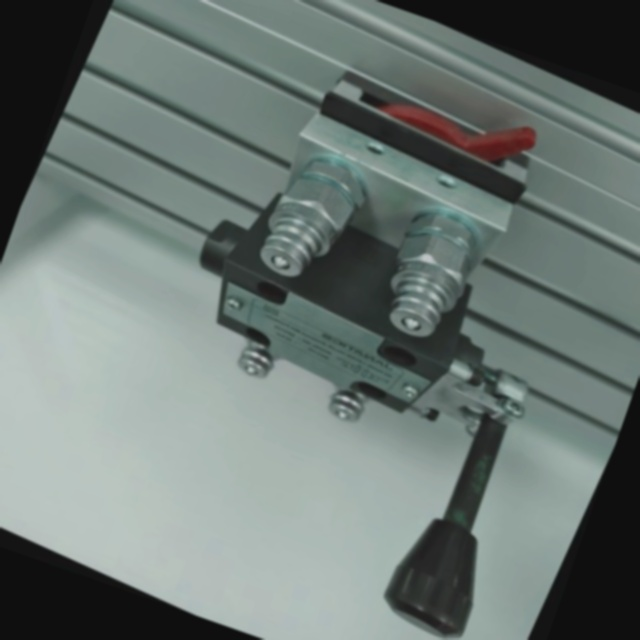4by3 hand lever valve: (75, 5, 640, 640)
